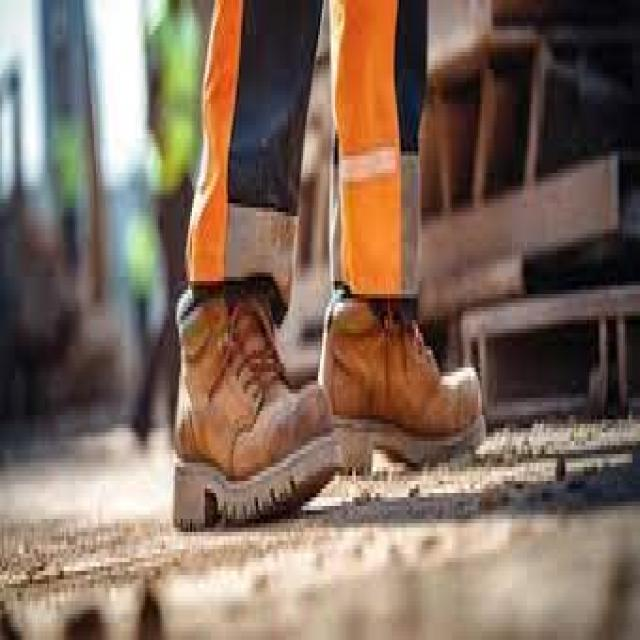shoes: (172, 284, 341, 540), (326, 291, 488, 484)
